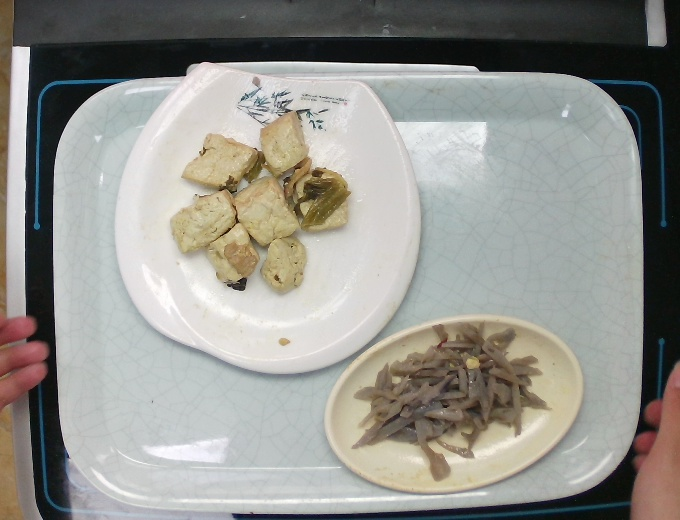JYsf-Mian_Pan: (112, 60, 430, 378)
JYsf-Tuo_Yuan_Wan: (314, 312, 592, 498)
